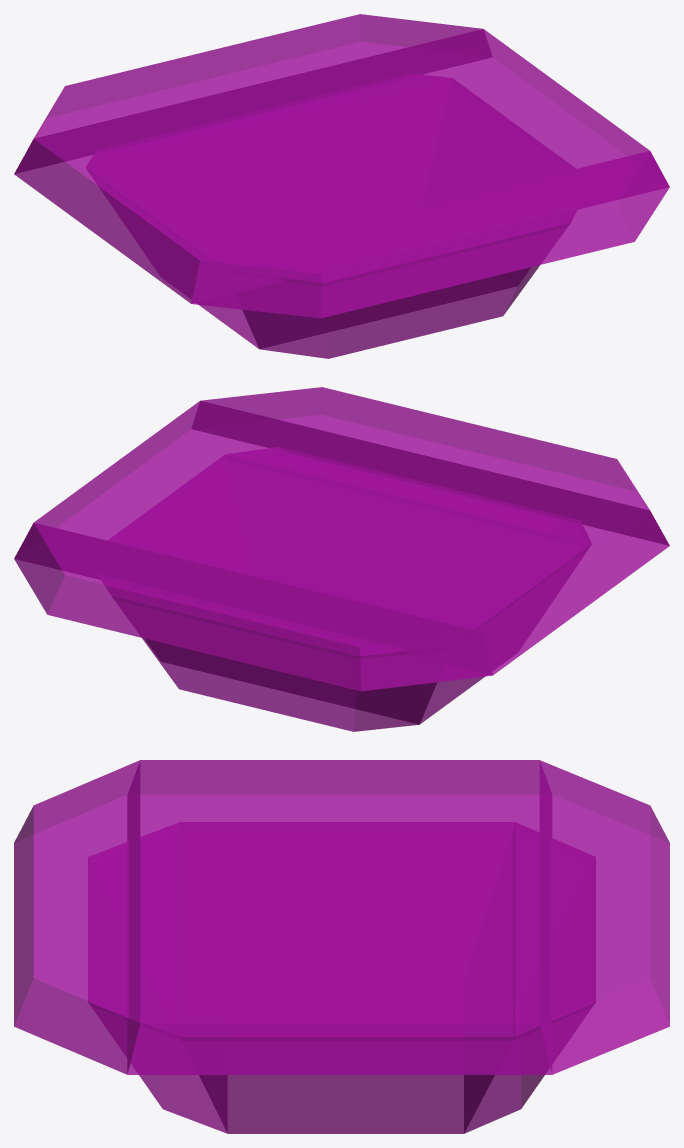
File: SM_Prop_Table_02_Collision.fbx
3 renders of one model, top to bottom at view 1: azimuth 30°, elevation 25°; view 2: azimuth 150°, elevation 25°; view 3: azimuth 270°, elevation 25°, orthographic. The views are drawn at different scales.
Visible parts, largest first — view 1: SM_Prop_Table_02_Collision; view 2: SM_Prop_Table_02_Collision; view 3: SM_Prop_Table_02_Collision.
Boxes of the visible parts, box(x1,y1,x2,y2) form: SM_Prop_Table_02_Collision: box(14, 14, 669, 358); SM_Prop_Table_02_Collision: box(14, 387, 669, 731); SM_Prop_Table_02_Collision: box(14, 760, 669, 1133).
Bounding box in the file's own units: 334 × 92.54 × 331.
